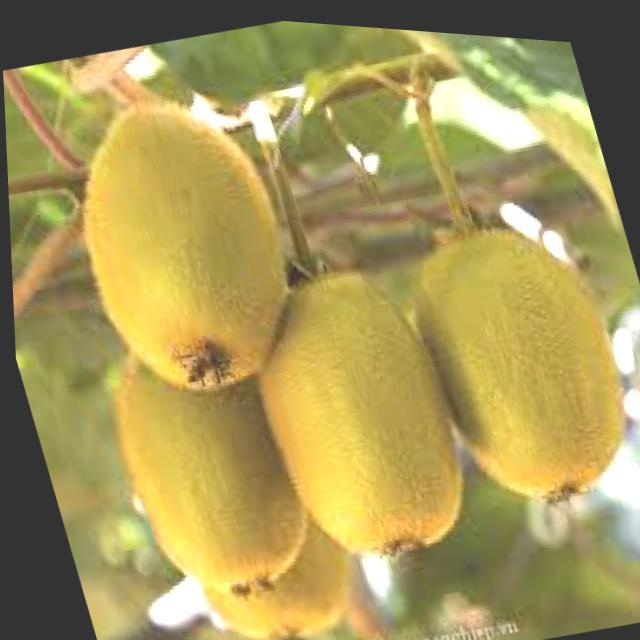kiwi: (40, 70, 319, 414), (223, 241, 480, 572), (388, 188, 640, 515), (86, 299, 323, 605), (135, 344, 371, 640)
